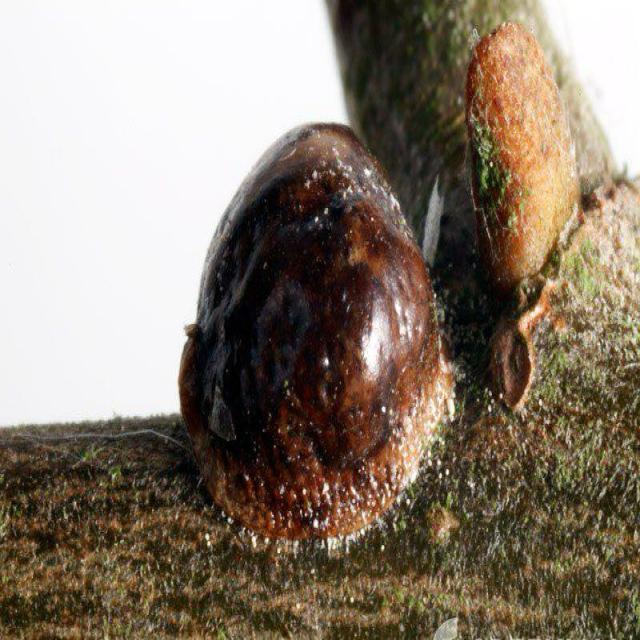Black Scale: (178, 122, 454, 543), (466, 21, 639, 415)
